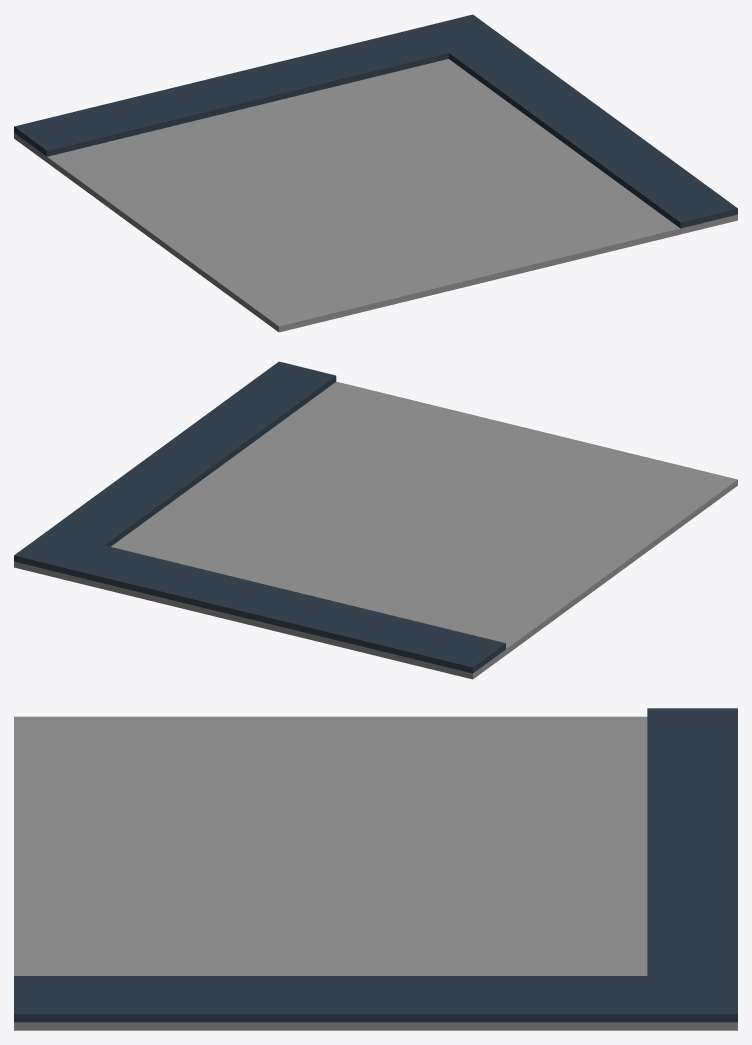
File: Tile4x4Quina.fbx
3 renders of one model, top to bottom at view 1: azimuth 30°, elevation 25°; view 2: azimuth 150°, elevation 25°; view 3: azimuth 270°, elevation 25°, orthographic. The views are drawn at different scales.
Parts seen in each view (by area): view 1: TileQuina4x4; view 2: TileQuina4x4; view 3: TileQuina4x4.
Part boxes in pixels (<box>): TileQuina4x4: <box>14,14,737,332</box>; TileQuina4x4: <box>14,361,737,679</box>; TileQuina4x4: <box>14,708,737,1030</box>.
Bounding box in the file's own units: 800 × 20.13 × 800.
